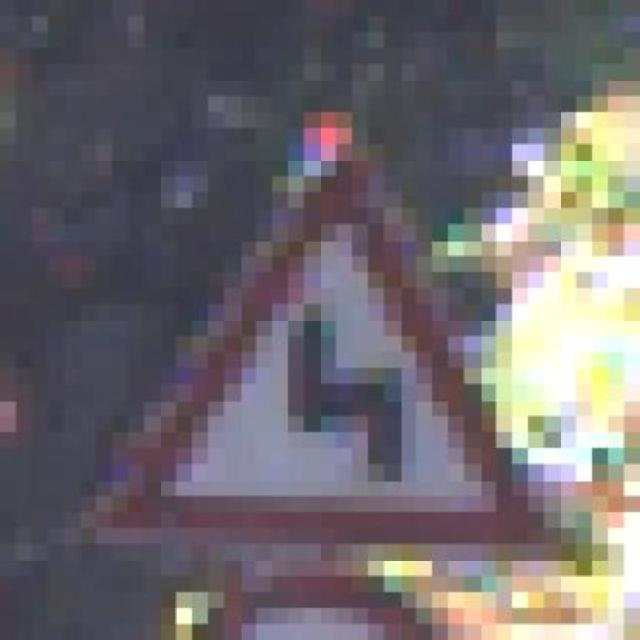Left Zig Zag Traffic: (79, 128, 576, 560)
